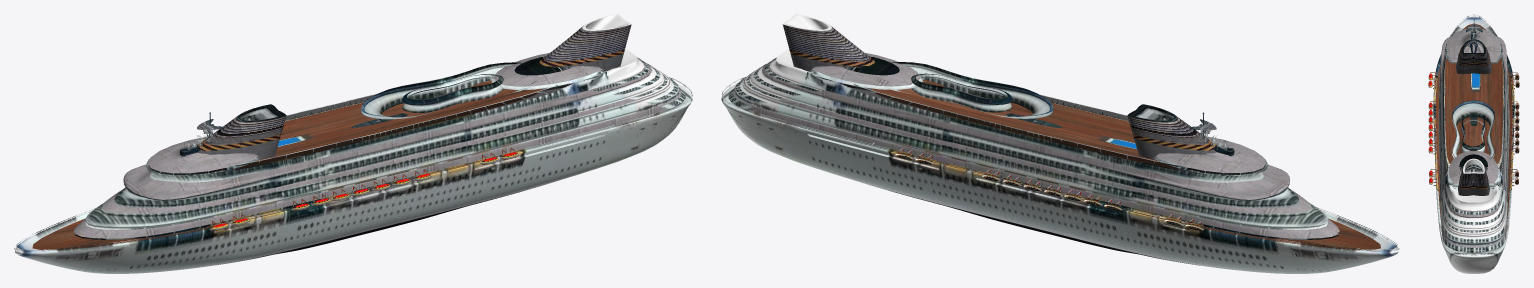
File: cruiser.glb
3 views of the same model, side by side, from view 1: azimuth 30°, elevation 25°; view 2: azimuth 150°, elevation 25°; view 3: azimuth 270°, elevation 25° (orthographic). The views are drawn at different scales.
Visible parts, largest first — view 1: Cruisership 2012, default_roofs, default_floors, default_towers, default_glass, default_emergency_boats, default_rear_windows; view 2: Cruisership 2012, default_roofs, default_floors, default_towers, default_glass, default_emergency_boats, default_rear_windows; view 3: Cruisership 2012, default_floors, default_roofs, default_towers, default_rear_windows, default_emergency_boats, default_glass.
Part boxes in pixels (left/top/right/bottom): Cruisership 2012: left=14, top=14, right=692, bottom=273; default_roofs: left=74, top=53, right=681, bottom=238; default_floors: left=32, top=80, right=660, bottom=250; default_towers: left=196, top=24, right=631, bottom=169; default_glass: left=148, top=62, right=590, bottom=175; default_emergency_boats: left=209, top=148, right=518, bottom=230; default_rear_windows: left=592, top=57, right=685, bottom=109; Cruisership 2012: left=721, top=14, right=1399, bottom=273; default_roofs: left=733, top=53, right=1339, bottom=238; default_floors: left=751, top=79, right=1380, bottom=250; default_towers: left=782, top=24, right=1218, bottom=171; default_glass: left=823, top=78, right=1265, bottom=174; default_emergency_boats: left=895, top=148, right=1204, bottom=230; default_rear_windows: left=728, top=57, right=819, bottom=109; Cruisership 2012: left=1433, top=14, right=1514, bottom=273; default_floors: left=1435, top=23, right=1512, bottom=221; default_roofs: left=1438, top=28, right=1509, bottom=247; default_towers: left=1456, top=39, right=1491, bottom=195; default_rear_windows: left=1443, top=188, right=1504, bottom=252; default_emergency_boats: left=1428, top=72, right=1519, bottom=185; default_glass: left=1444, top=73, right=1504, bottom=172.
Bounding box in the file's own units: 1041 × 226 × 167.
8 materials, 6 textured.
